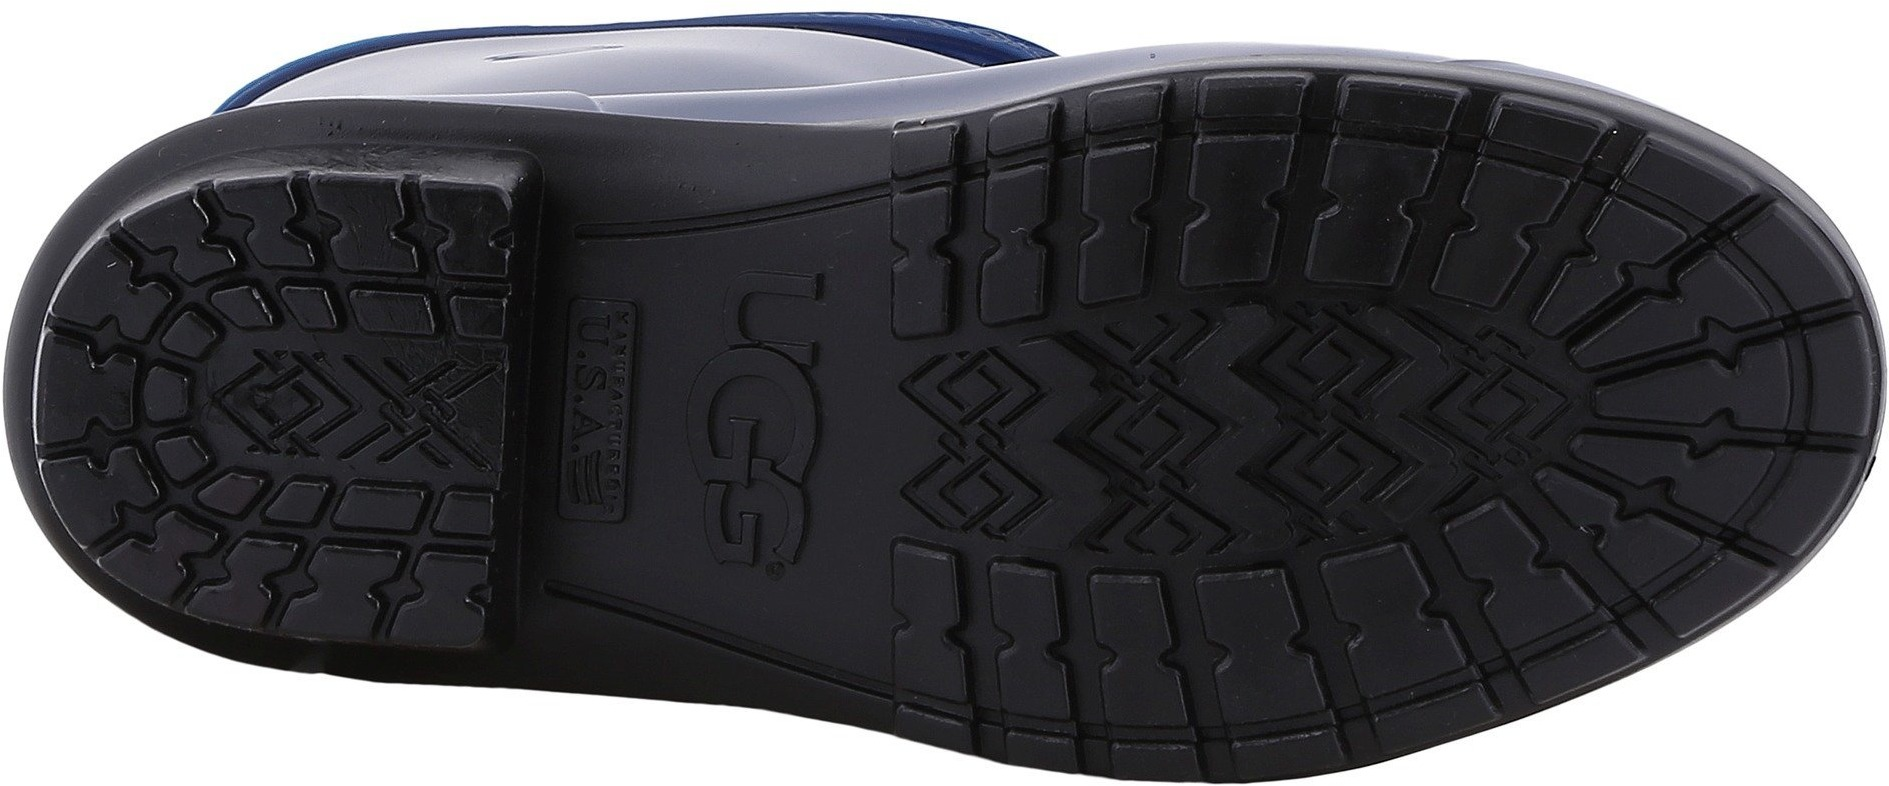bowtie: (1565, 324, 1811, 573), (904, 541, 1138, 752), (1171, 541, 1395, 759), (1185, 89, 1361, 303), (910, 153, 1104, 338)
text: (653, 274, 861, 492)
